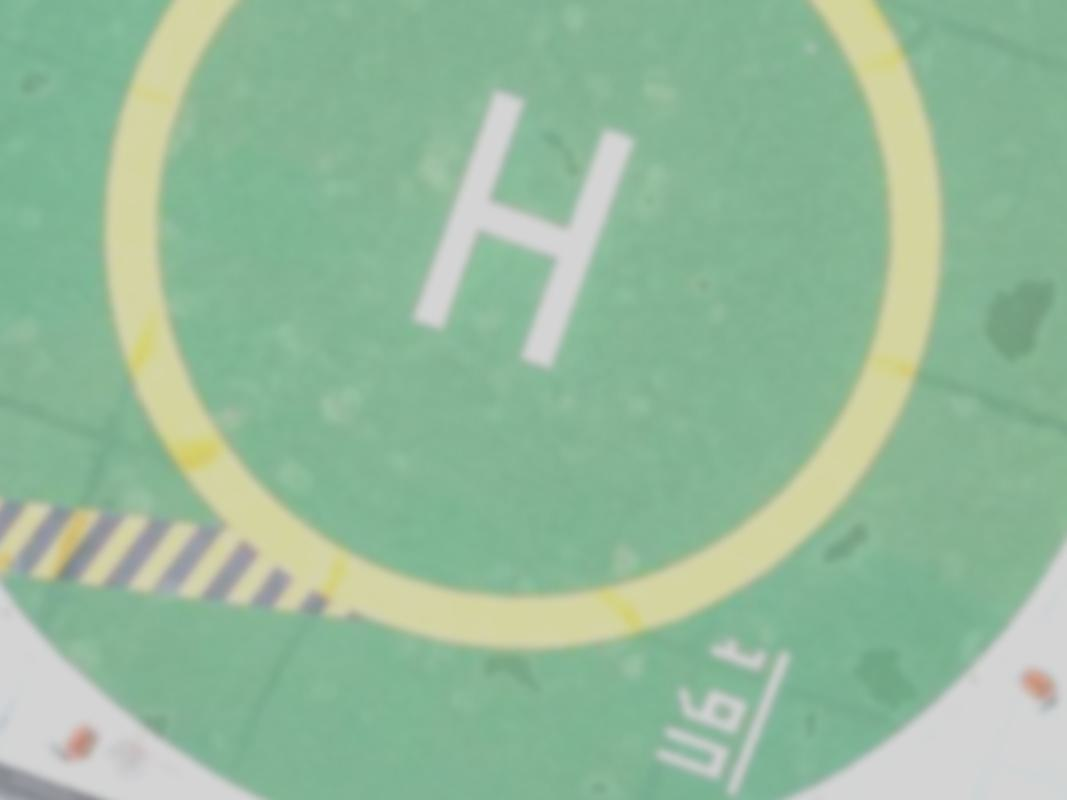Apron: (87, 1, 966, 666)
